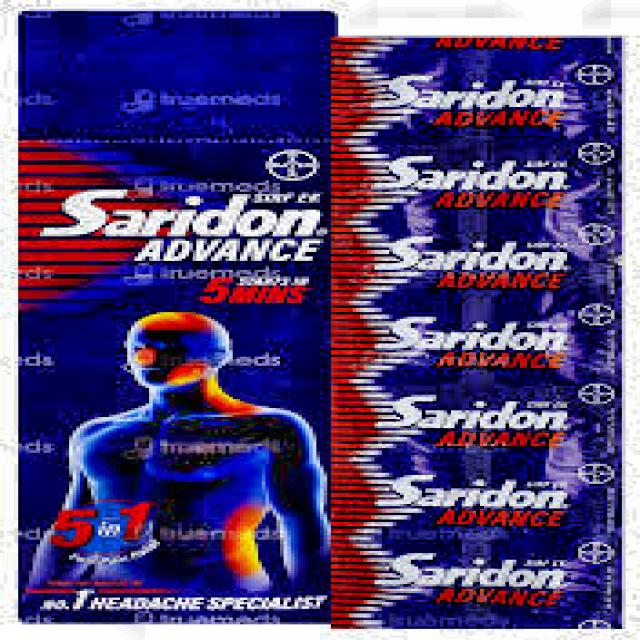Saridon: (340, 41, 624, 632), (34, 172, 330, 304)
